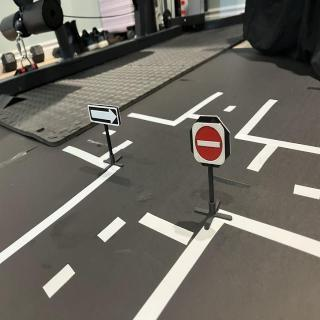sign_noentry: (193, 124, 227, 166)
sign_oneway_right: (89, 107, 121, 128)
